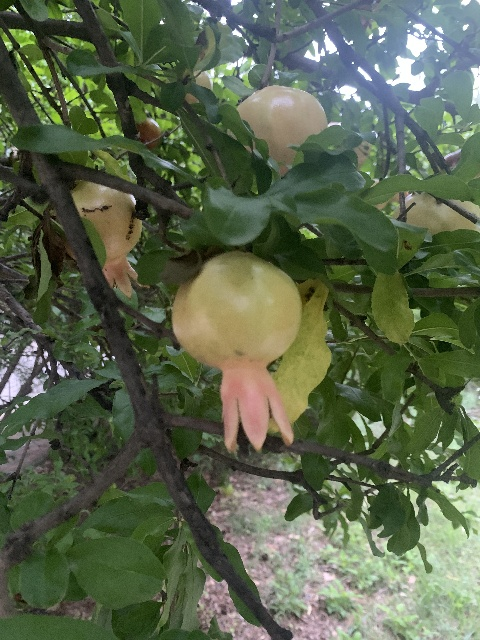mid-growth: (170, 250, 324, 453), (55, 180, 146, 299), (236, 84, 327, 177)
